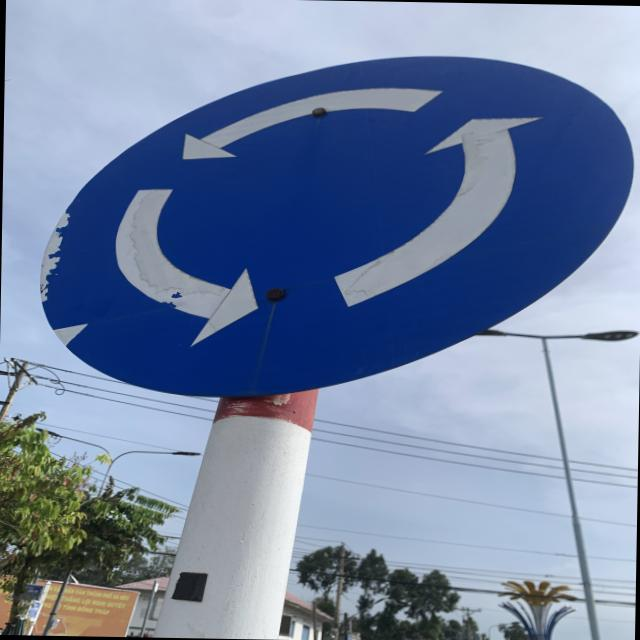Xe_Bus: (37, 48, 636, 411)
